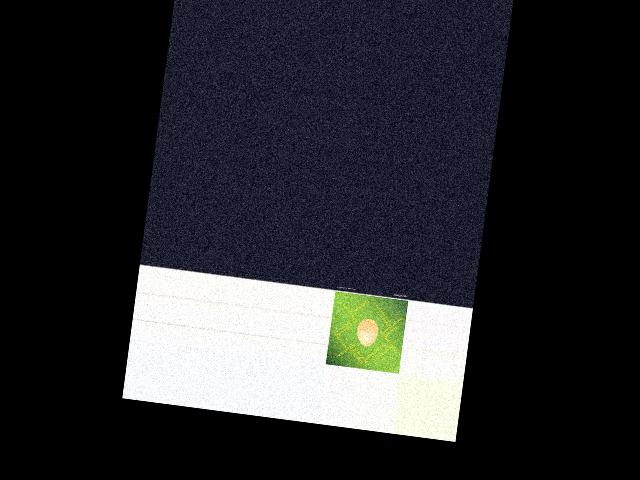egg: (355, 317, 379, 347)
